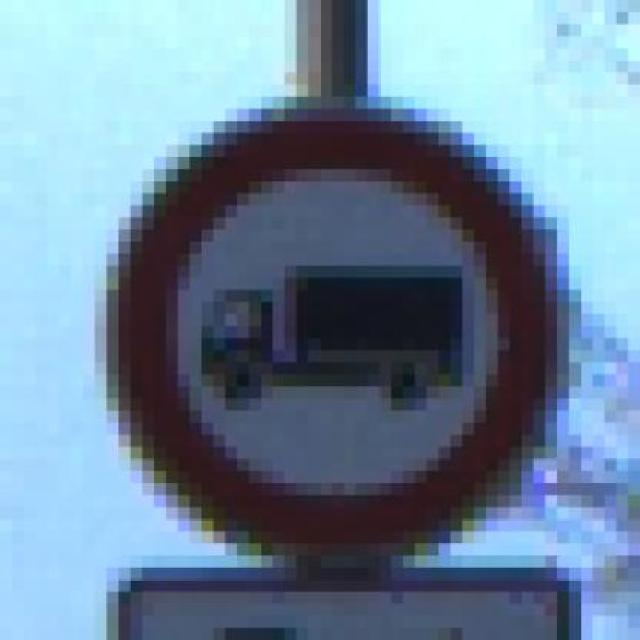Truck traffic is prohibited: (70, 85, 582, 580)
